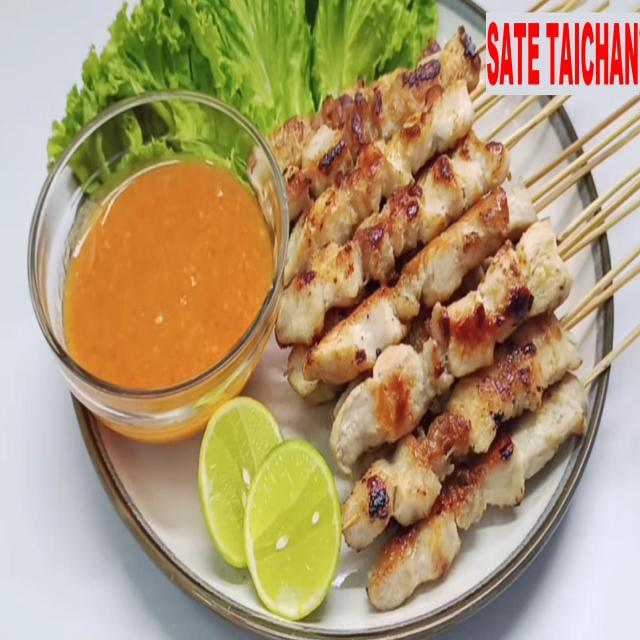Sate: (266, 82, 640, 572)
